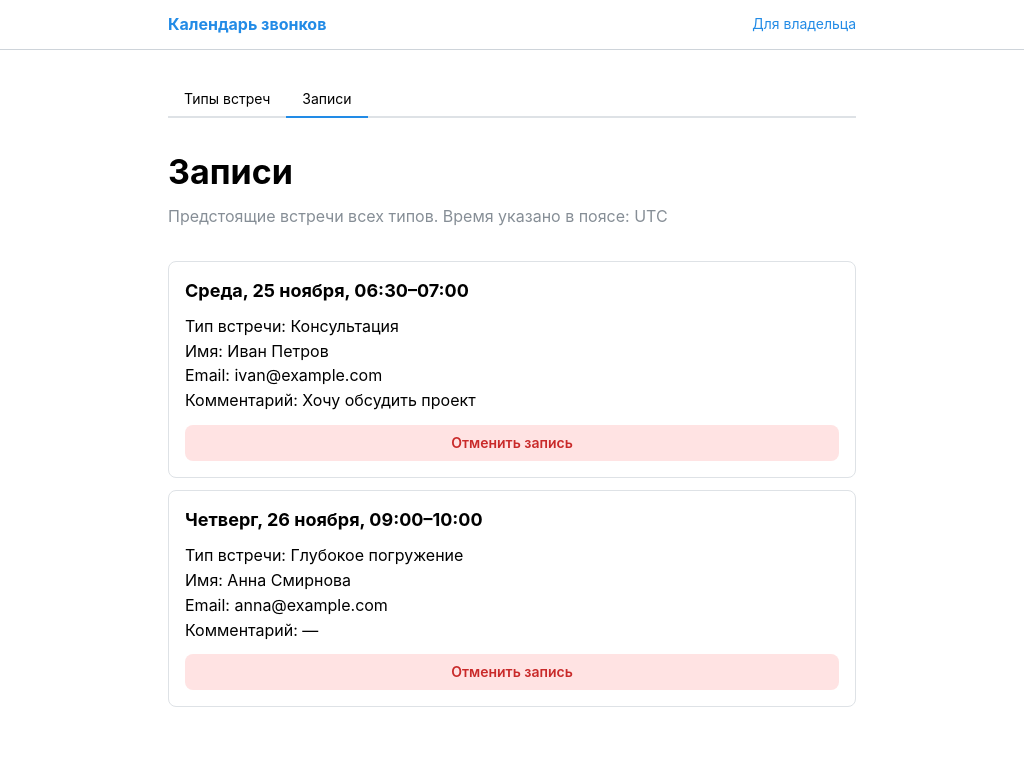
на телефоне запись отменяется из карточки
This screenshot has width=1024, height=768.
Click the button "Отменить запись" below "Среда, 25 ноября, 06:30–07:00": (512, 443) [185, 425, 839, 461]
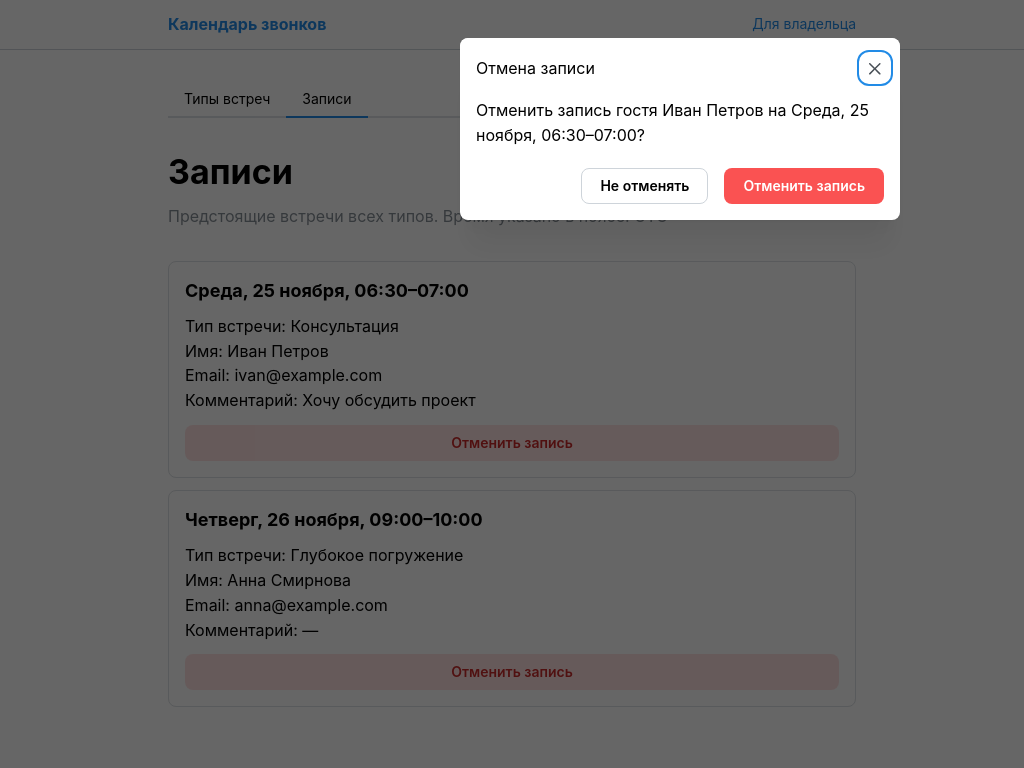
Click the button "Отменить запись": (804, 186) [724, 168, 884, 204]
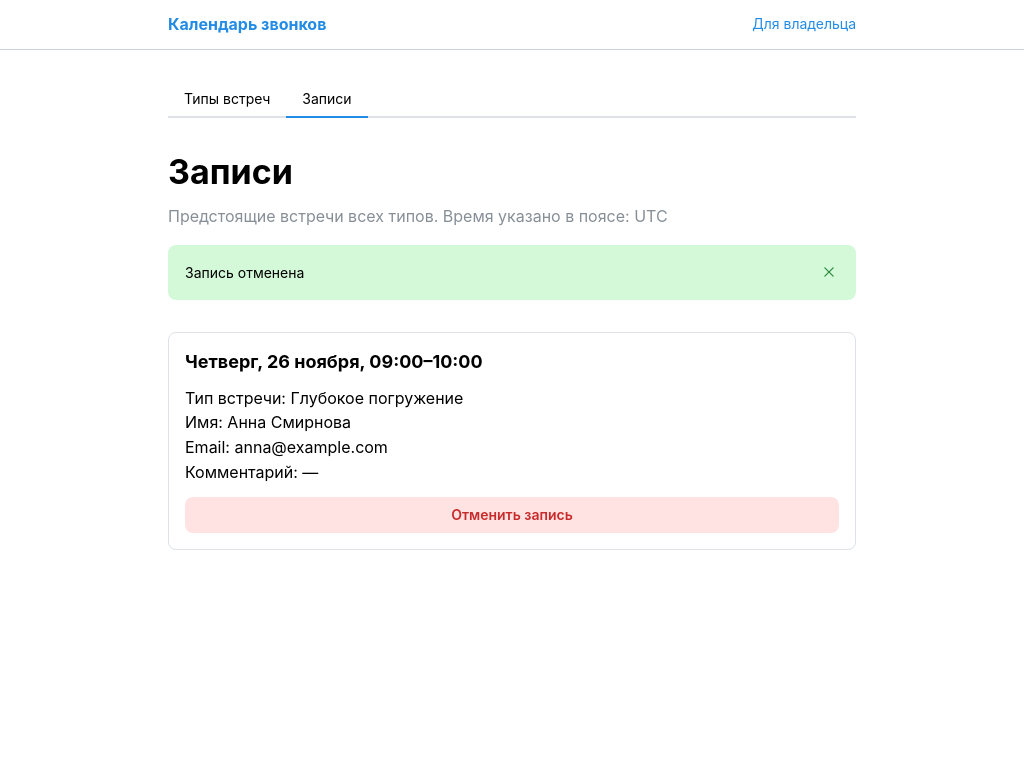
Check: the text "Запись отменена" is shown, box [185, 264, 304, 281]
Check: the text "Имя: Иван Петров" is gone
